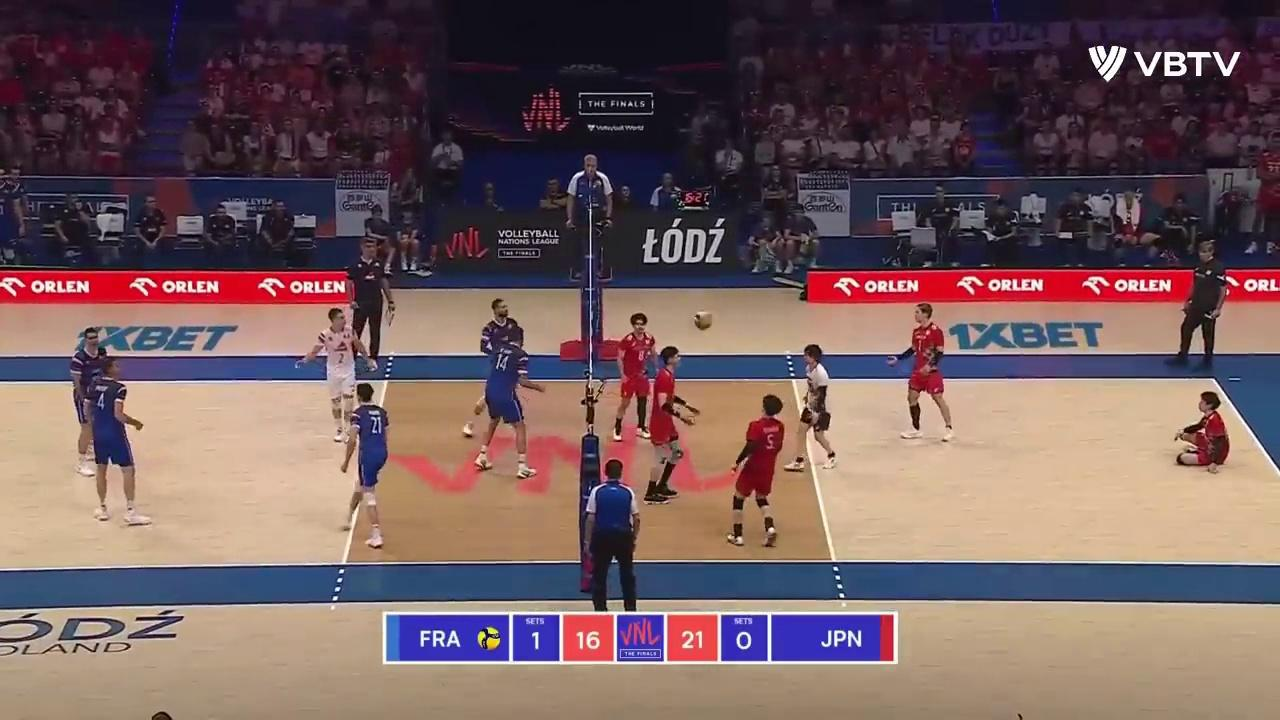ball: (692, 310, 714, 331)
